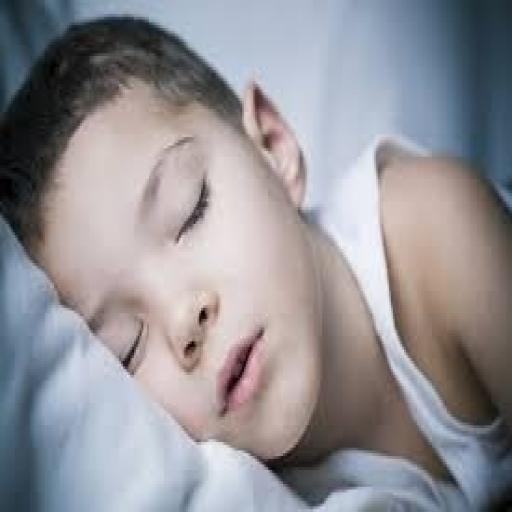sleeping: (0, 11, 510, 509)
